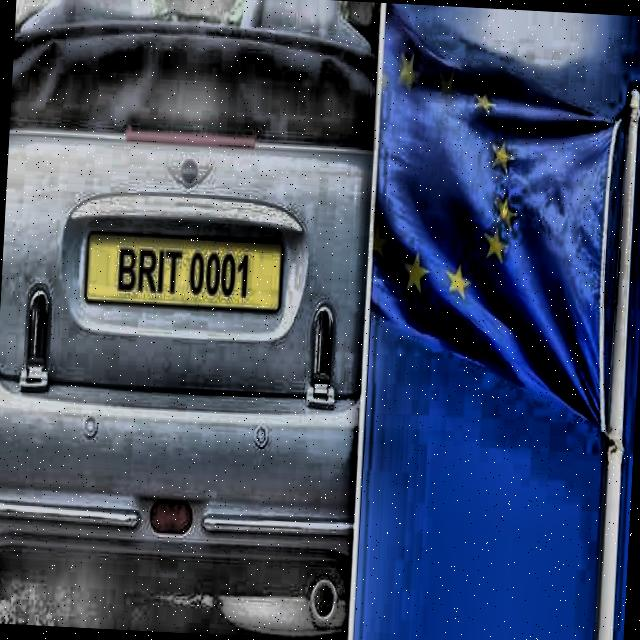license_plate: (86, 232, 286, 315)
